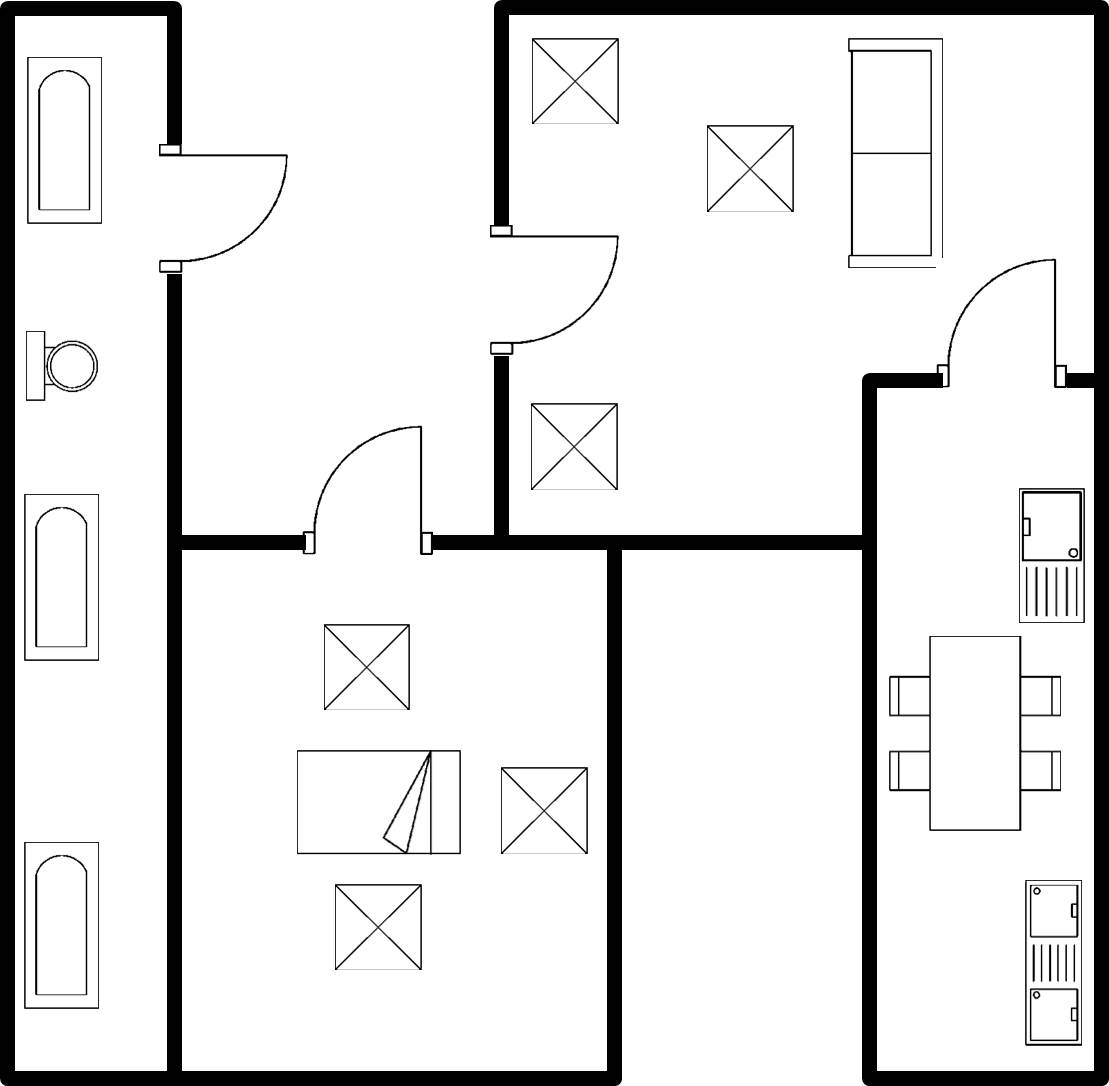bed: (289, 741, 470, 864)
coffee_table: (692, 115, 806, 222), (525, 28, 632, 135), (522, 394, 629, 501), (327, 876, 435, 980), (314, 617, 419, 722), (492, 758, 596, 861)
dining_table: (882, 627, 1071, 843)
large_sink: (19, 324, 105, 412)
large_sofa: (841, 30, 953, 282)
sink: (1005, 479, 1098, 630)
tub: (18, 832, 113, 1019), (19, 52, 116, 234), (16, 482, 108, 670)
twin_sink: (1013, 870, 1092, 1056)
